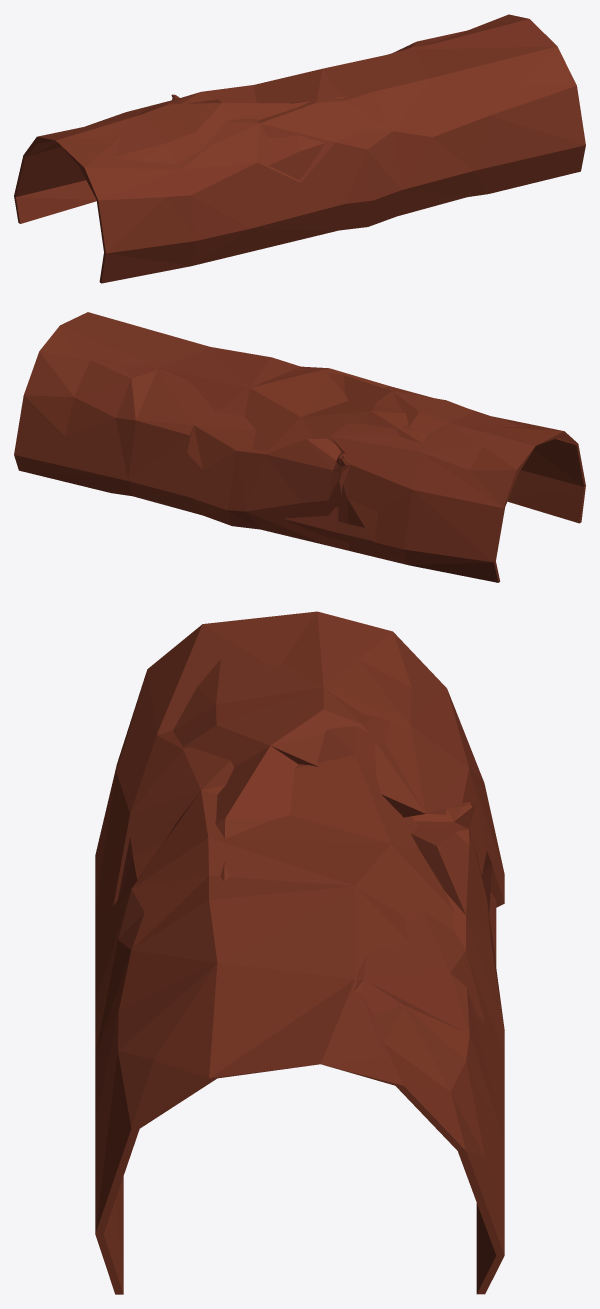
Rendered from baumzumdurchrollen.fbx.
The picture shows the model from 3 angles, top to bottom: view 1: azimuth 30°, elevation 25°; view 2: azimuth 150°, elevation 25°; view 3: azimuth 270°, elevation 25°; orthographic projection. The views are drawn at different scales.
Visible parts, largest first — view 1: Cube; view 2: Cube; view 3: Cube.
Boxes of the visible parts, x1,y1,x2,y2 form: Cube: (14, 14, 585, 283); Cube: (14, 312, 585, 582); Cube: (95, 611, 504, 1294).
Bounding box in the file's own units: 924 × 227 × 345.
